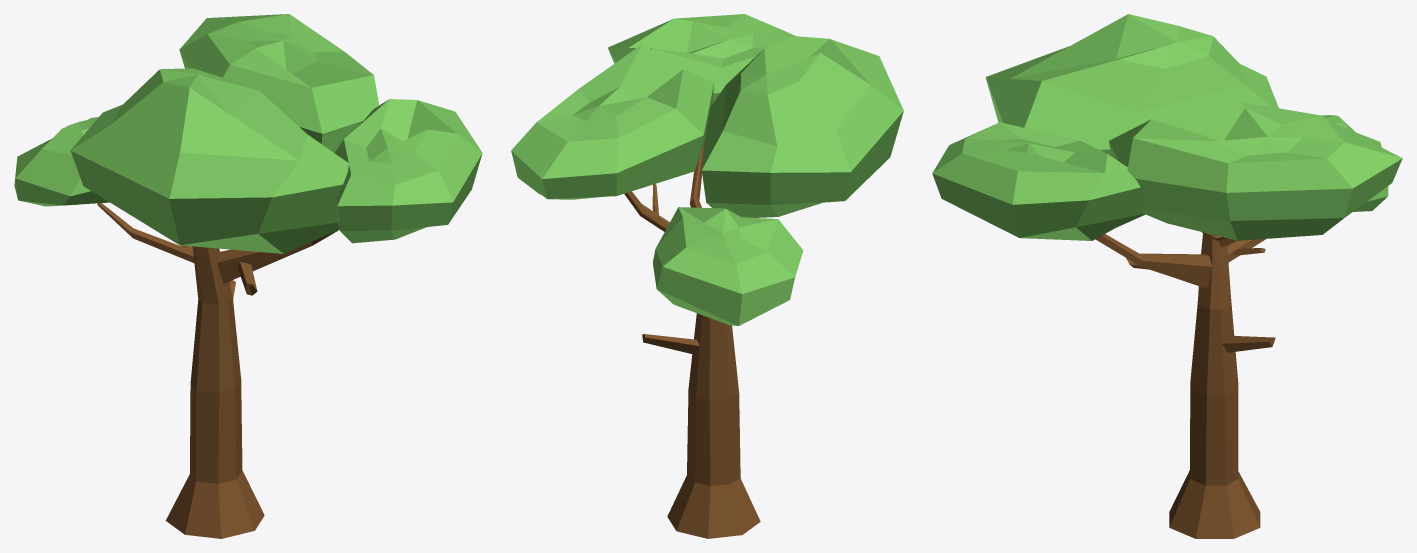
File: Tree 3.fbx
3 views of the same model, side by side, from view 1: azimuth 30°, elevation 25°; view 2: azimuth 150°, elevation 25°; view 3: azimuth 270°, elevation 25° (orthographic). The views are drawn at different scales.
Visible parts, largest first — view 1: Sphere.009; view 2: Sphere.009; view 3: Sphere.009.
Part boxes in pixels (x1,y1,x2,y2): Sphere.009: (14, 14, 482, 538); Sphere.009: (511, 14, 903, 538); Sphere.009: (932, 14, 1402, 538).
Bounding box in the file's own units: 737 × 1050 × 947.
